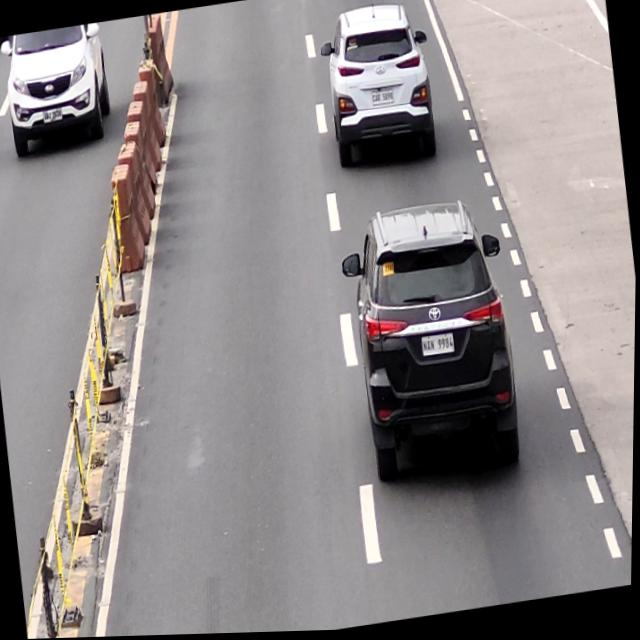Car: (335, 197, 530, 493), (315, 0, 443, 174)
License-Plate: (421, 333, 456, 360), (370, 88, 395, 108)
